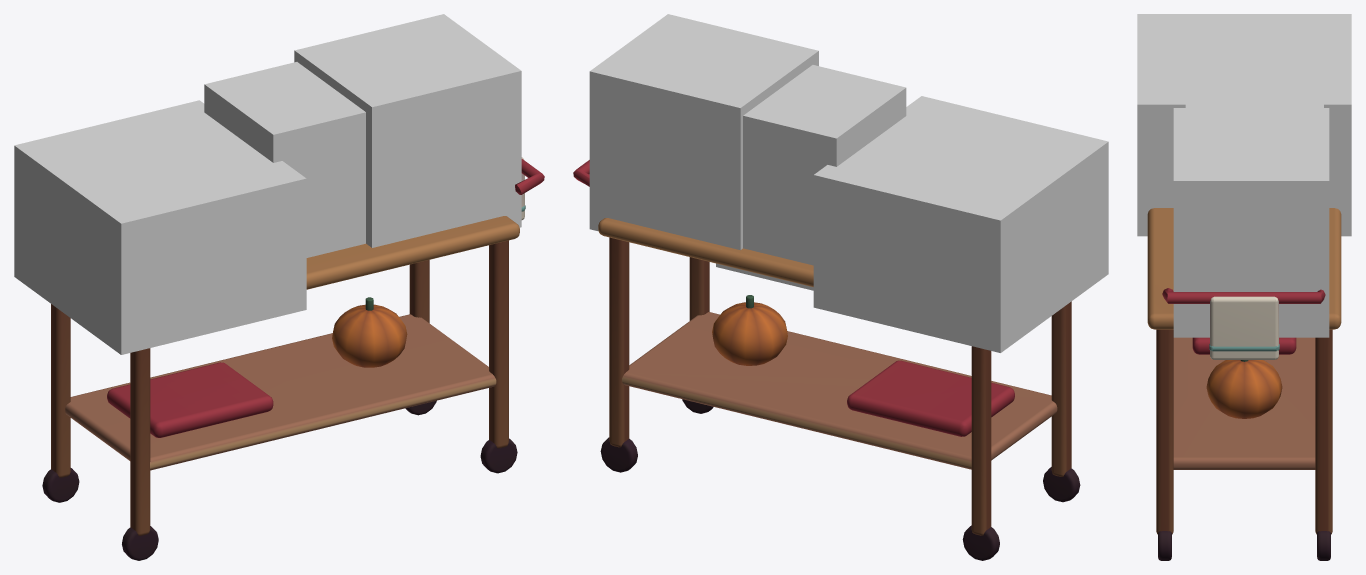
Rendered from table.glb.
3 views of the same model, side by side, from view 1: azimuth 30°, elevation 25°; view 2: azimuth 150°, elevation 25°; view 3: azimuth 270°, elevation 25° (orthographic).
Visible parts, largest first — view 1: hit_plates__geo, cart__geo, hit_cards__geo, hit_forks__geo; view 2: hit_plates__geo, cart__geo, hit_cards__geo, hit_forks__geo; view 3: cart__geo, hit_cards__geo, hit_plates__geo, hit_forks__geo.
Part boxes in pixels (x1=…): hit_plates__geo: x1=14, y1=100, x2=306, y2=354; cart__geo: x1=42, y1=157, x2=544, y2=560; hit_cards__geo: x1=294, y1=14, x2=521, y2=247; hit_forks__geo: x1=204, y1=62, x2=365, y2=257; hit_plates__geo: x1=813, y1=96, x2=1108, y2=352; cart__geo: x1=573, y1=160, x2=1080, y2=560; hit_cards__geo: x1=589, y1=14, x2=818, y2=250; hit_forks__geo: x1=716, y1=65, x2=906, y2=290; cart__geo: x1=1147, y1=208, x2=1341, y2=560; hit_cards__geo: x1=1173, y1=108, x2=1329, y2=337; hit_plates__geo: x1=1137, y1=14, x2=1351, y2=236; hit_forks__geo: x1=1185, y1=72, x2=1323, y2=107.
Bounding box in the file's own units: 1.48 × 1.25 × 0.62.
